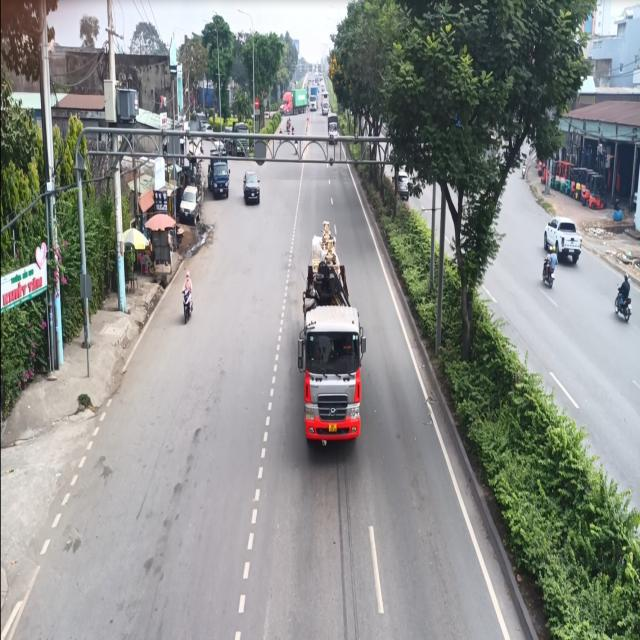car: (242, 160, 263, 212)
motor: (178, 265, 196, 326)
truck: (298, 234, 368, 457)
